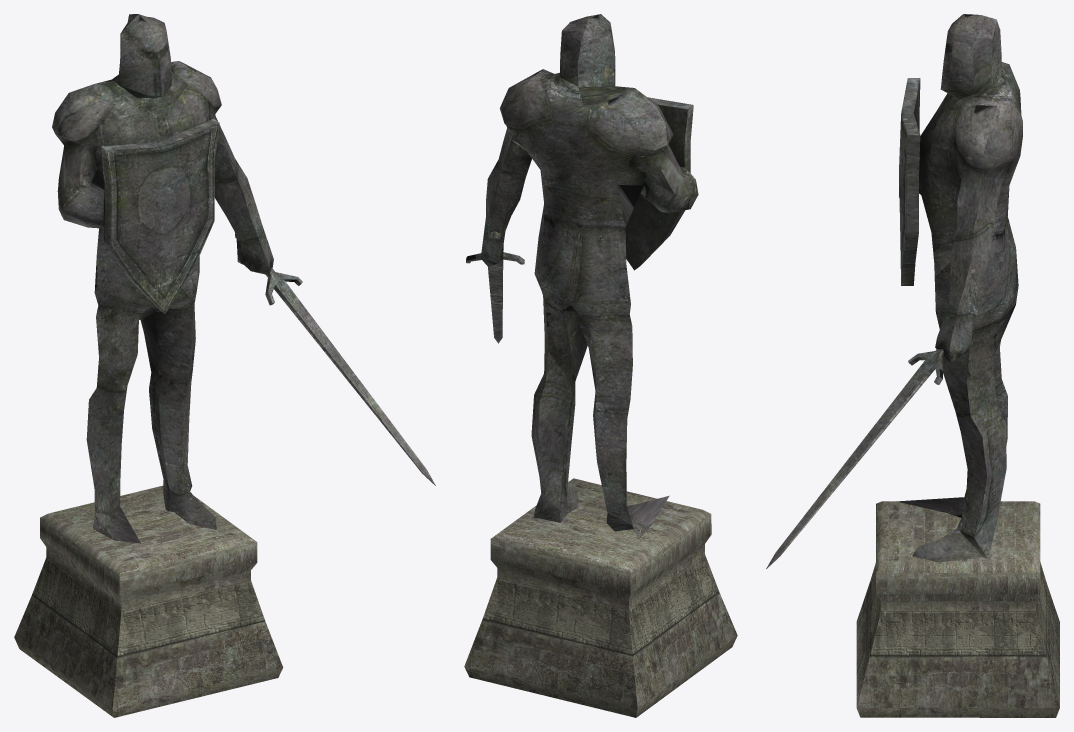
The model's file is Guardianstatue_lod.fbx.
3 renders of one model, left to right at view 1: azimuth 30°, elevation 25°; view 2: azimuth 150°, elevation 25°; view 3: azimuth 270°, elevation 25°, orthographic. The views are drawn at different scales.
Parts seen in each view (by area): view 1: Mesh Object; view 2: Mesh Object; view 3: Mesh Object.
Boxes of the visible parts, bbox=[...] form: Mesh Object: bbox=[14, 14, 435, 717]; Mesh Object: bbox=[464, 14, 737, 717]; Mesh Object: bbox=[766, 14, 1059, 717].
Bounding box in the file's own units: 3.08 × 6.63 × 2.67.
